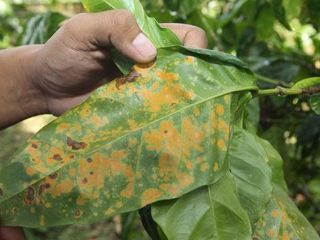roya: (16, 137, 235, 217)
